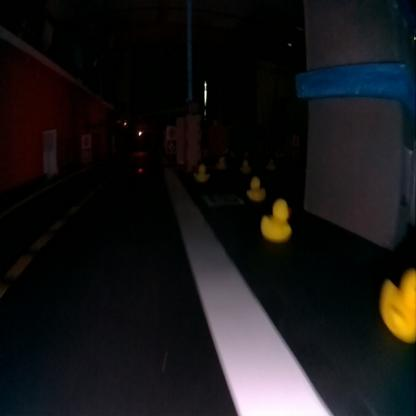Duckie: (380, 270, 414, 342), (260, 200, 290, 241), (247, 176, 264, 200), (193, 164, 207, 181), (239, 159, 250, 173), (216, 156, 225, 169)
QR code: (201, 190, 244, 204)
